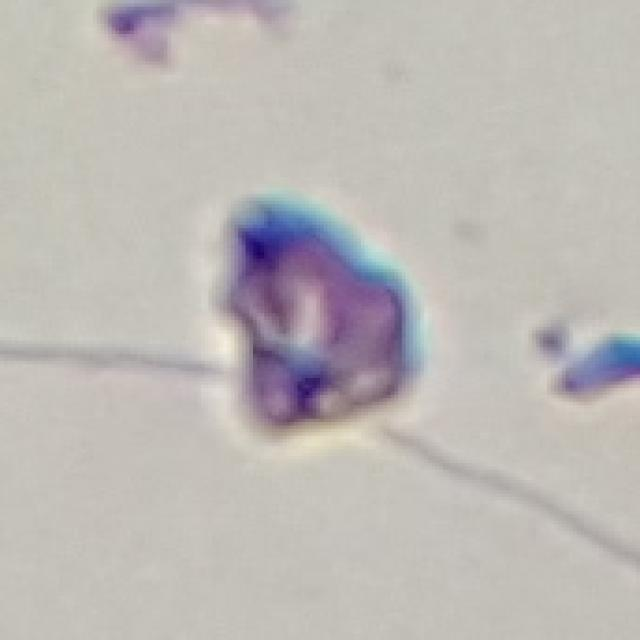non-sperm: (195, 186, 423, 480)
